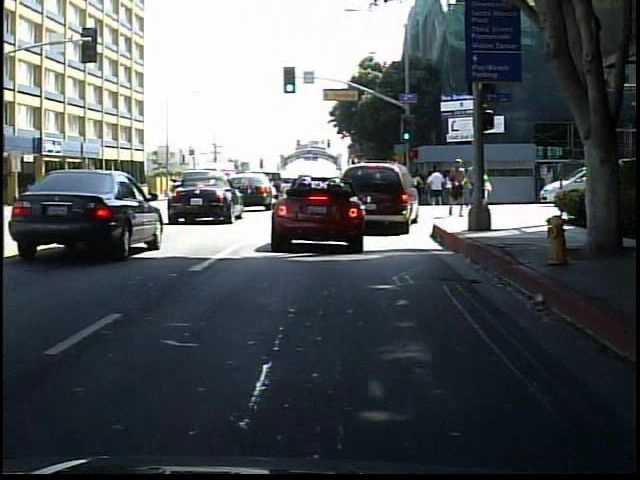person: (444, 156, 467, 219), (472, 173, 494, 211), (109, 175, 128, 204)
